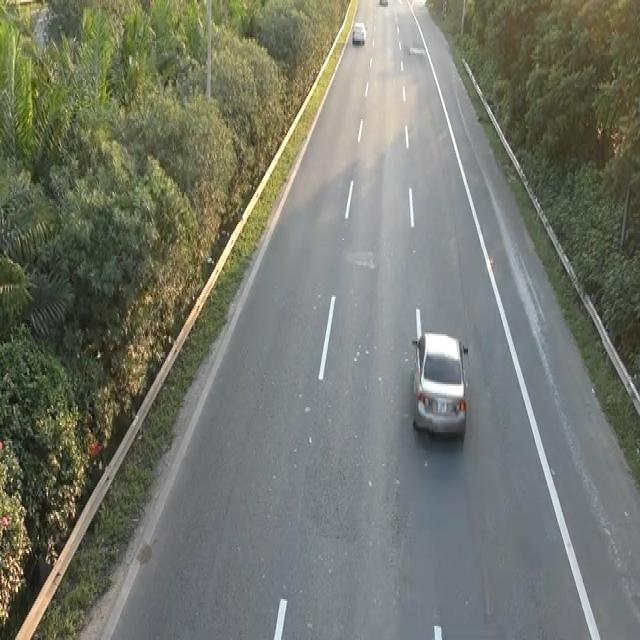bus: (409, 304, 470, 443)
